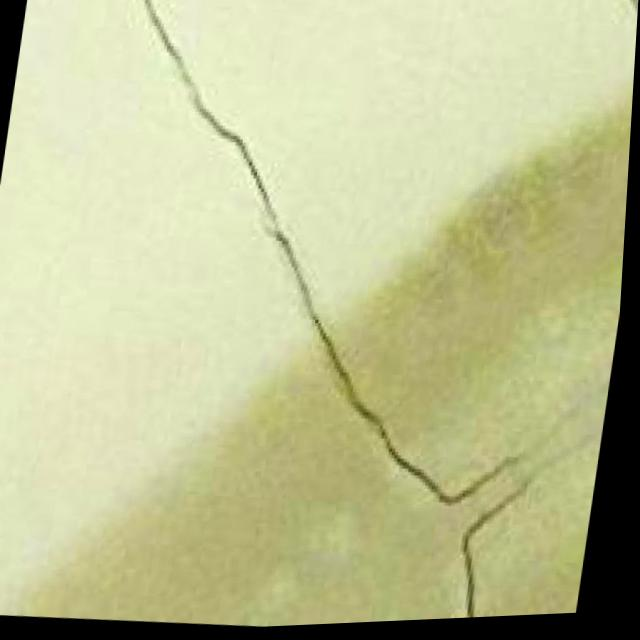Crack: (35, 0, 609, 638)
